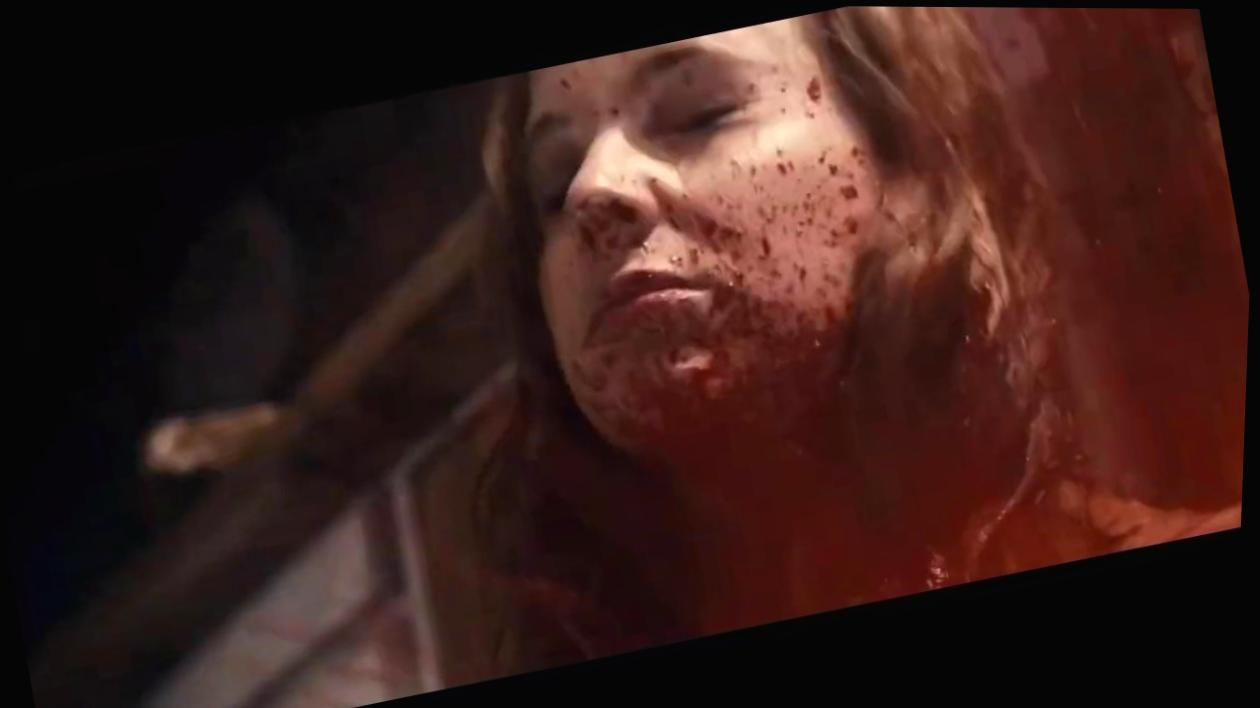Fire: (532, 5, 1252, 632)
